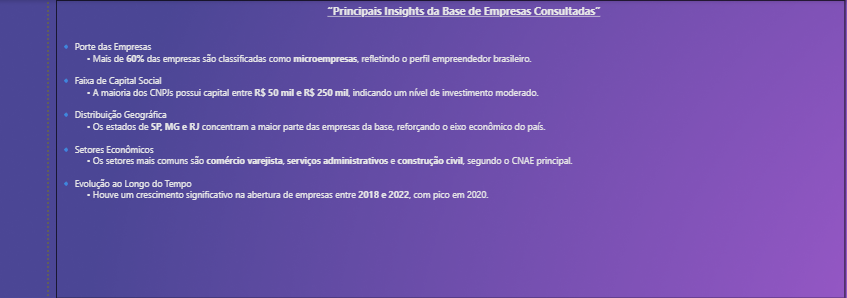

What the dashboard file says about the page in this screenshot:
{"tool":"powerbi","page":{"name":"INSIGHTS","canvas":[1280,720],"ordinal":1},"visuals":[{"type":"textbox","box":[10,0,1178.6,445.7],"z":0}]}

Visuals, with their boxes on the page's 1280x720 design canvas (x1, y1, x2, y2). These are canvas units, not pixel positions in the 847x298 screenshot, which may show the page scaled, cropped or inside an application window:
textbox: box=[10, 0, 1189, 446]
